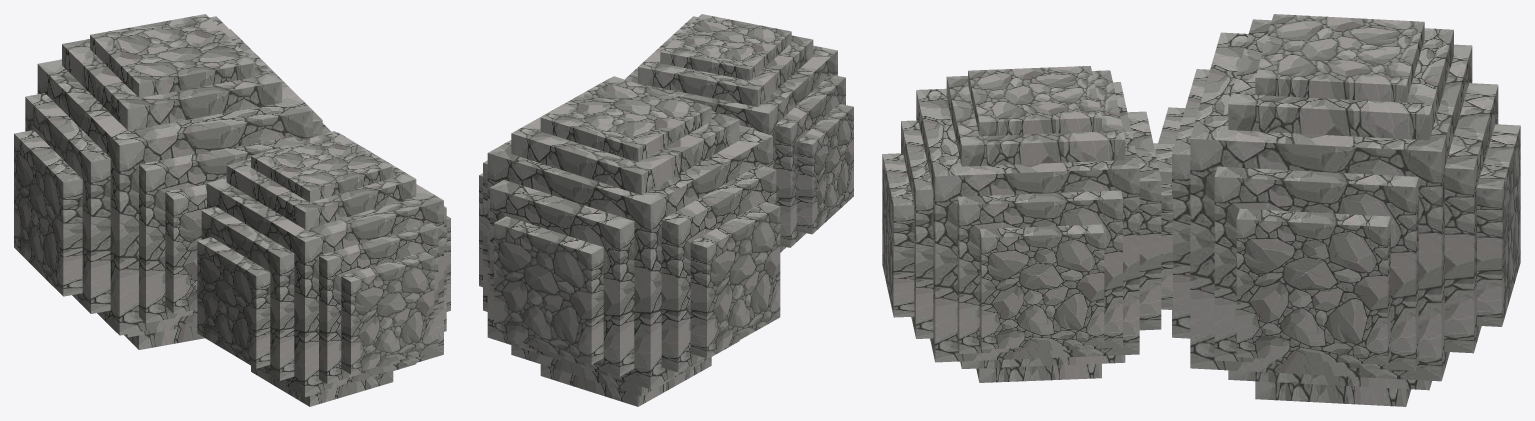
Rendered from CuerpoOnix.obj.
The picture shows the model from 3 angles, left to right: view 1: azimuth 30°, elevation 25°; view 2: azimuth 150°, elevation 25°; view 3: azimuth 270°, elevation 25°; orthographic projection. The views are drawn at different scales.
Visible parts, largest first — view 1: Parte2; view 2: Parte2; view 3: Parte2.
Part boxes in pixels (x1,y1,x2,y2): Parte2: (14, 14, 450, 406); Parte2: (479, 14, 853, 406); Parte2: (882, 14, 1520, 406).
Size of the model in its own units: 5.76 by 5.51 by 9.91.
